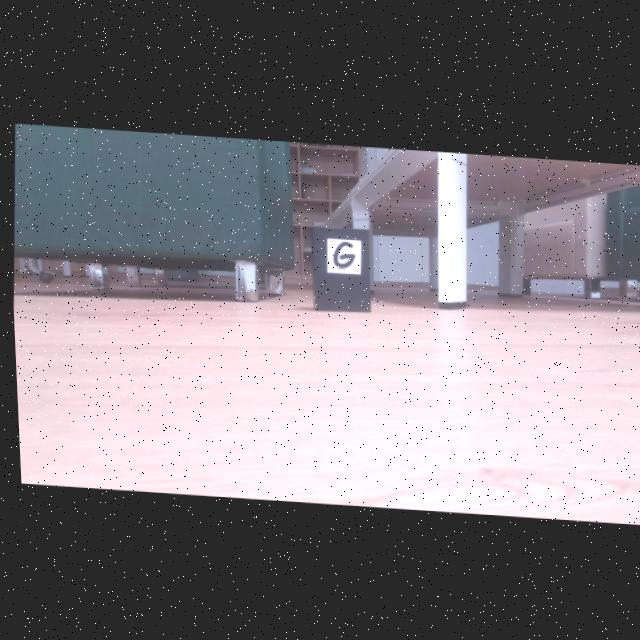G: (331, 241, 353, 268)
